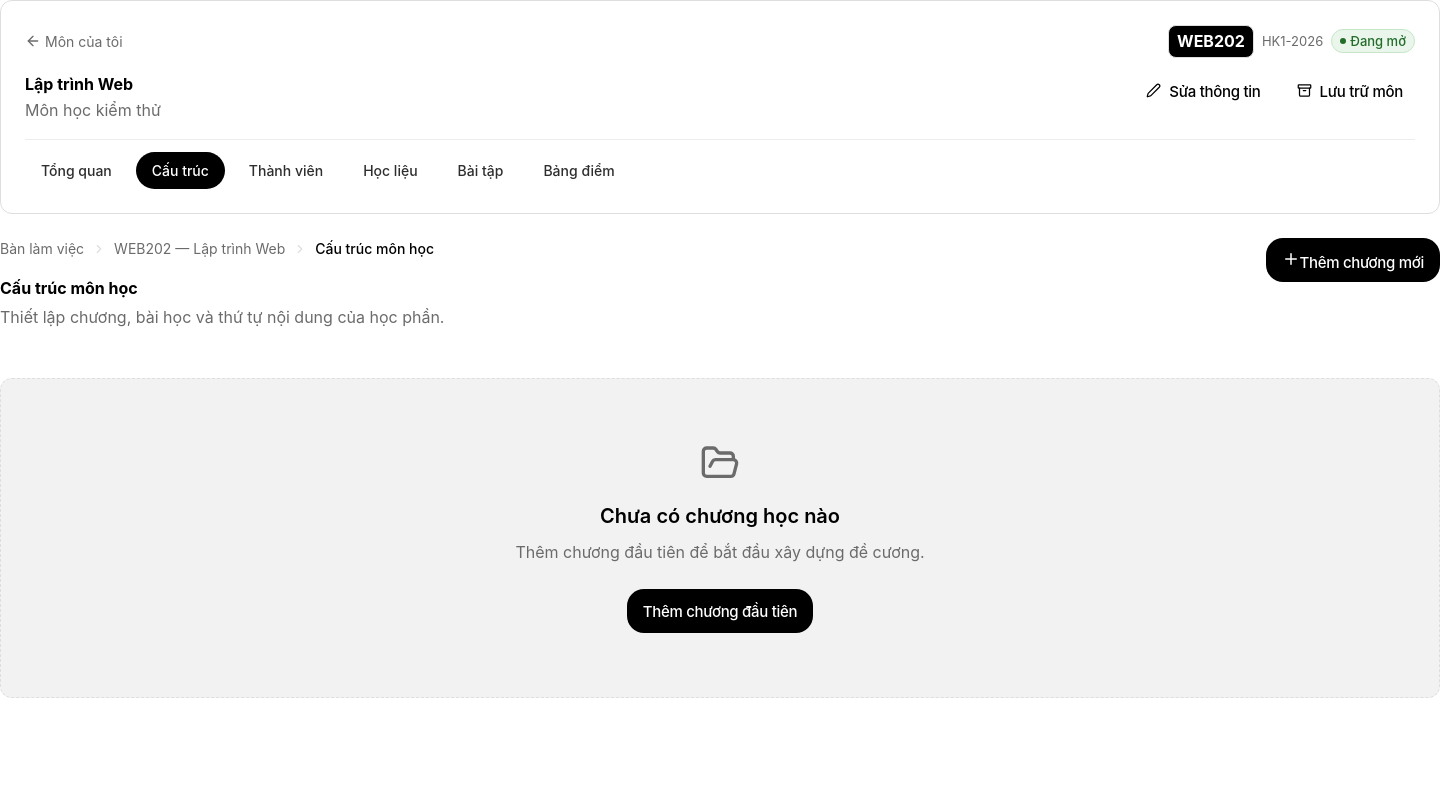
Test: B06 acceptance regressions › refreshes the nested structure after archiving from the course header
Expected: the button "Thêm chương mới" is shown, [1266,238,1439,282]
Click the button "Lưu trữ môn": point(1350, 92) [1284,74,1415,110]
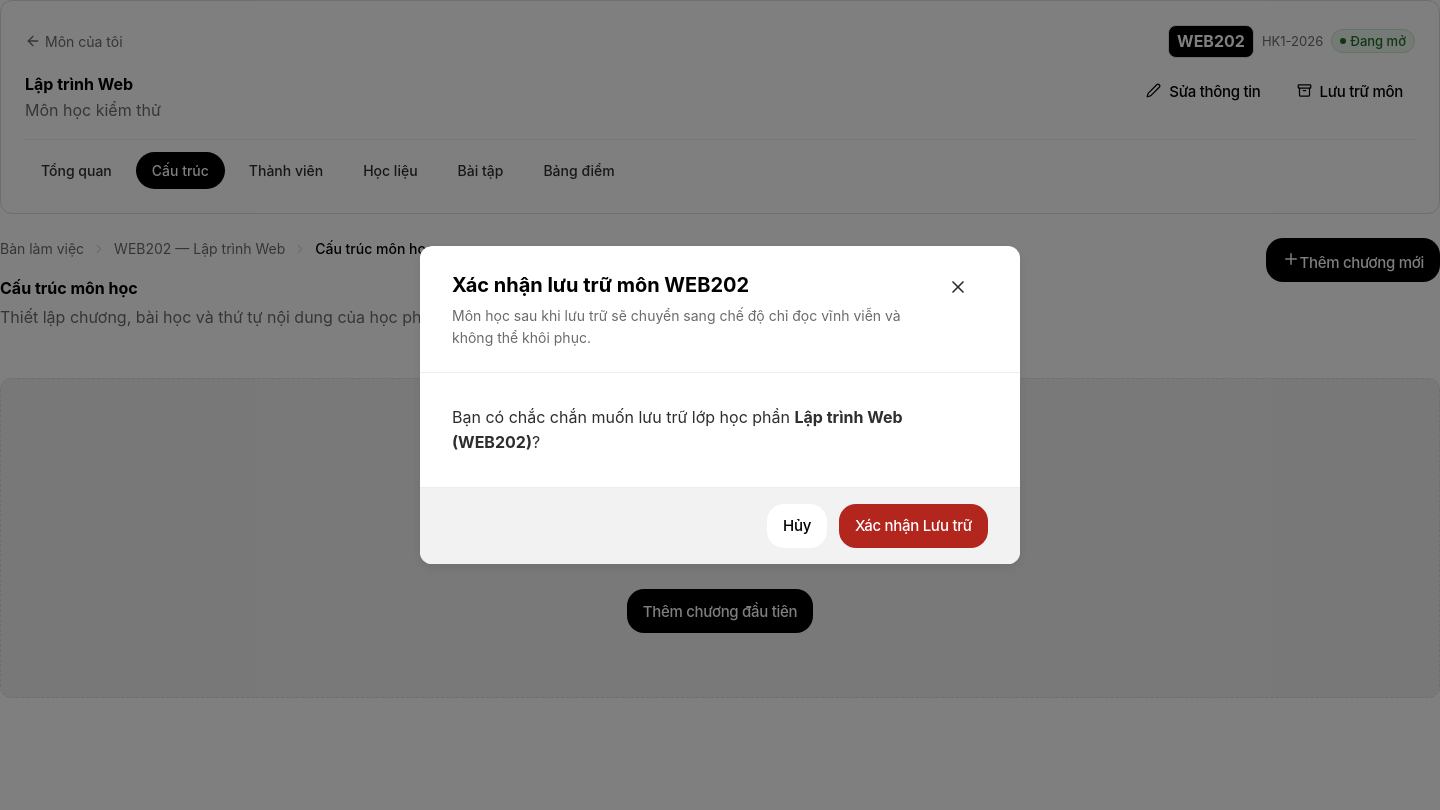
Click the button "Xác nhận Lưu trữ": point(914, 526) [839,504,988,548]
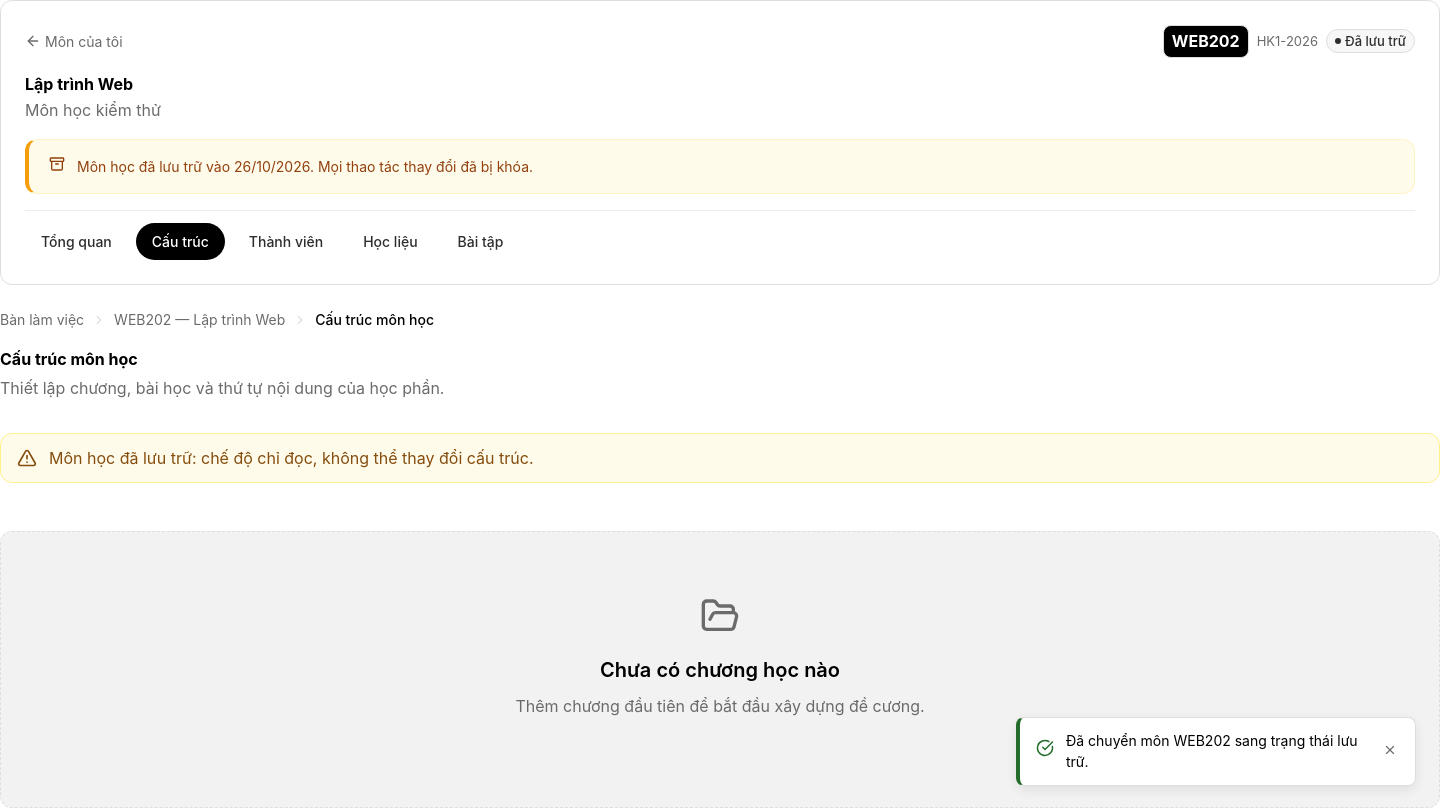
Expected: the text "Môn học đã lưu trữ: chế độ chỉ đọc, không thể thay đổi cấu trúc." is shown, [49,446,534,470]
Expected: the button "Thêm chương mới" is gone
